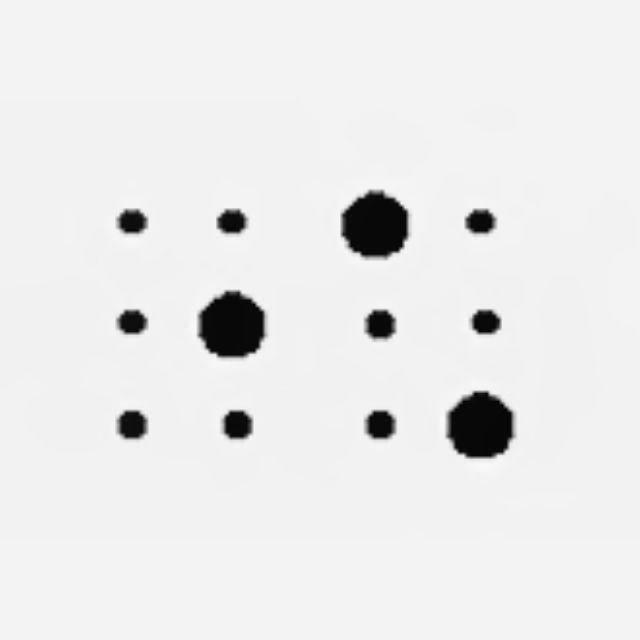dot_5: (95, 193, 266, 459)
kabila: (340, 191, 512, 457)
